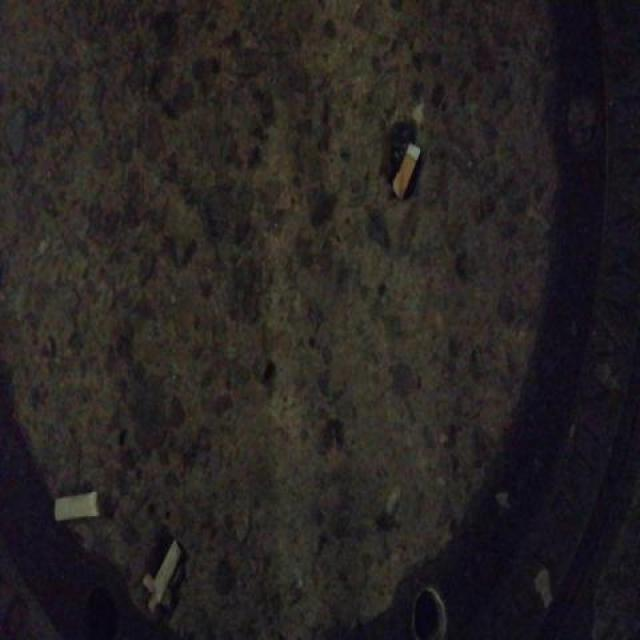non-organic waste: (149, 536, 186, 609), (390, 138, 422, 206), (51, 486, 105, 525)
